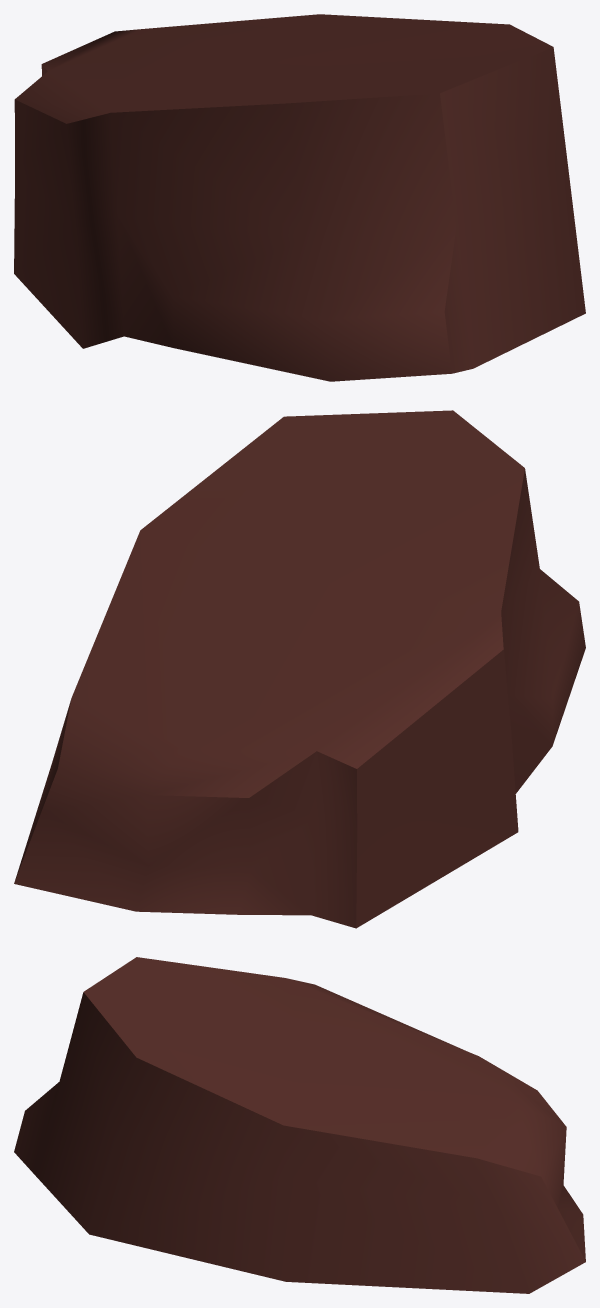
The model's file is SM_small_rock_B.fbx.
3 renders of one model, top to bottom at view 1: azimuth 30°, elevation 25°; view 2: azimuth 150°, elevation 25°; view 3: azimuth 270°, elevation 25°, orthographic. The views are drawn at different scales.
Visible parts, largest first — view 1: polySurface53; view 2: polySurface53; view 3: polySurface53.
Part boxes in pixels (x1=…): polySurface53: x1=14, y1=14, x2=585, y2=381; polySurface53: x1=14, y1=410, x2=585, y2=928; polySurface53: x1=14, y1=957, x2=585, y2=1293.
Bounding box in the file's own units: 101 × 74.96 × 158.
